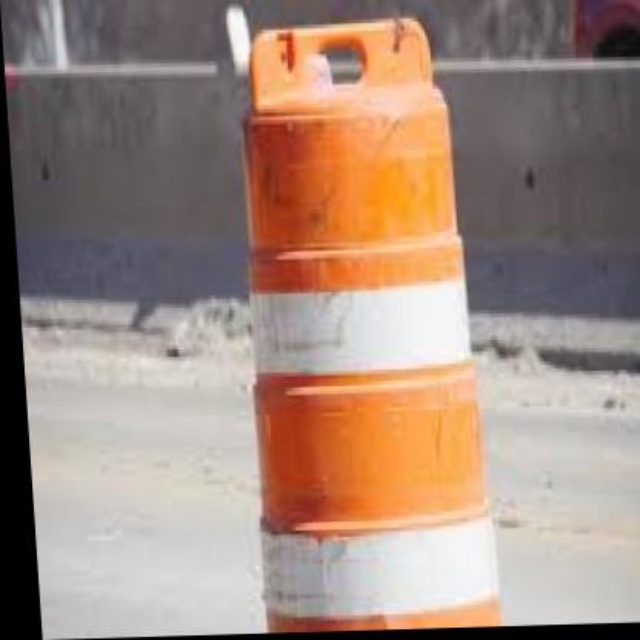obstacle: (223, 30, 496, 631)
